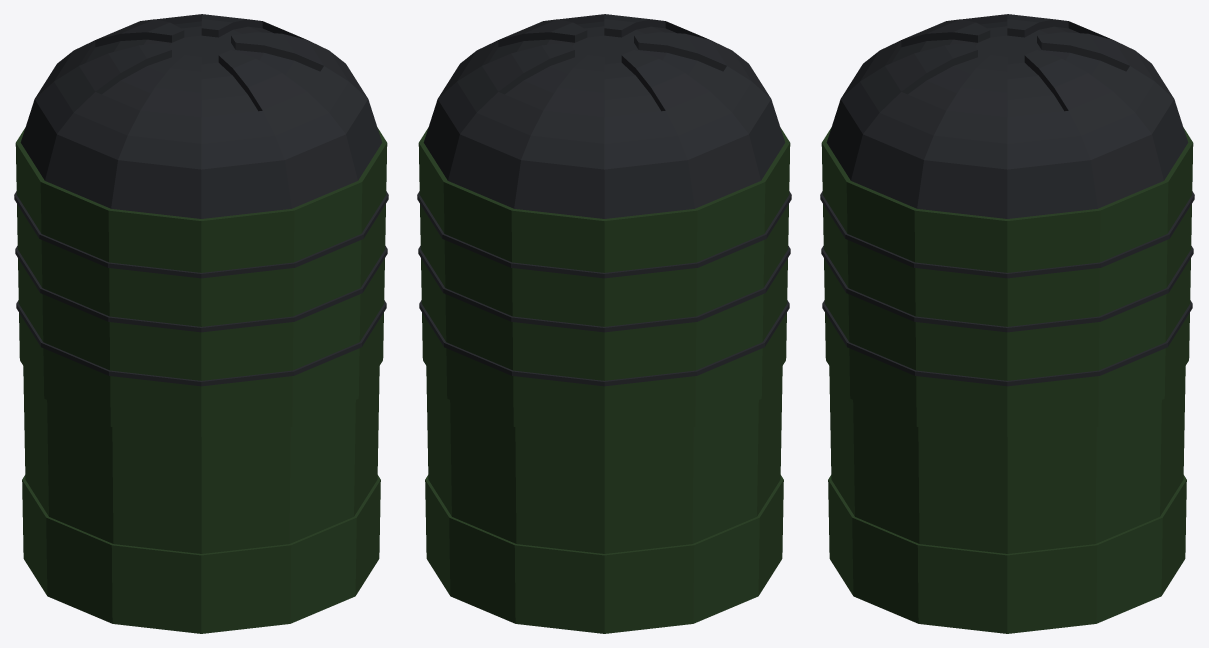
The model's file is TrashBin_1.fbx.
3 renders of one model, left to right at view 1: azimuth 30°, elevation 25°; view 2: azimuth 150°, elevation 25°; view 3: azimuth 270°, elevation 25°, orthographic.
Parts seen in each view (by area): view 1: TrashBin_1; view 2: TrashBin_1; view 3: TrashBin_1.
Part boxes in pixels (x1,y1,x2,y2): TrashBin_1: [14, 14, 388, 633]; TrashBin_1: [417, 14, 791, 633]; TrashBin_1: [820, 14, 1194, 633].
Bounding box in the file's own units: 63.45 × 96.44 × 63.45.
